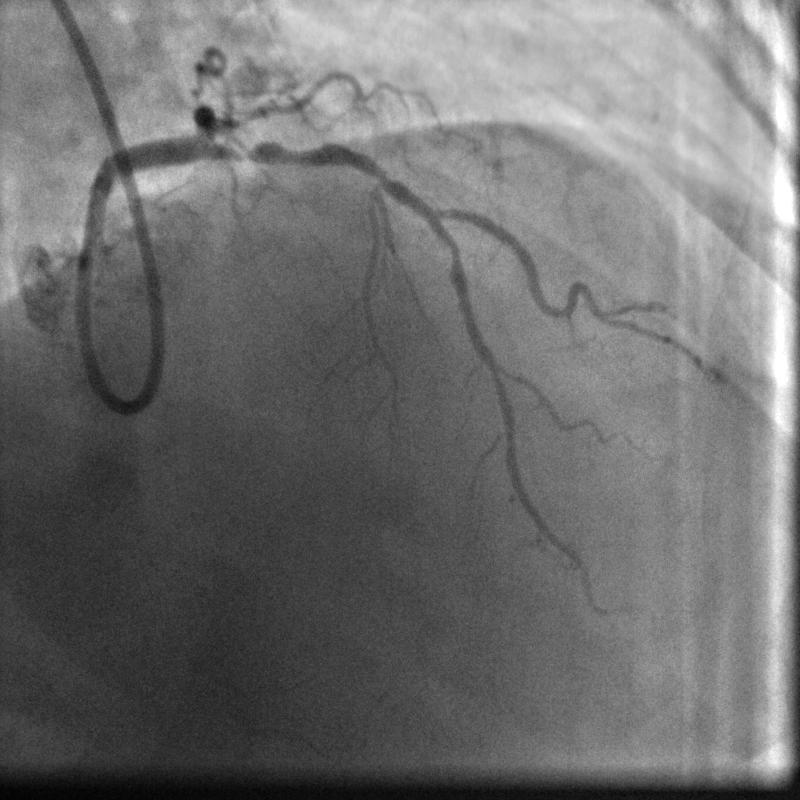Stenosis: (224, 131, 333, 164)
